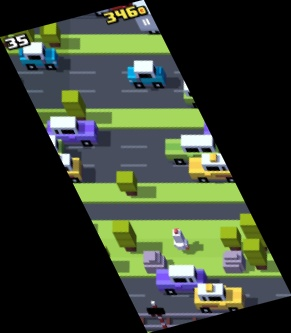car: (165, 135, 229, 166), (43, 115, 100, 148), (189, 152, 246, 182), (156, 265, 208, 297), (194, 283, 244, 314), (183, 77, 232, 107), (34, 153, 84, 182), (127, 60, 166, 90), (19, 41, 59, 70), (203, 116, 244, 143), (22, 135, 64, 159), (170, 228, 190, 252)
light off: (146, 298, 171, 333)
rail: (135, 310, 230, 332)
rock: (144, 251, 167, 275), (223, 251, 246, 272)
tree: (237, 213, 265, 247), (60, 90, 88, 123), (112, 220, 139, 252), (243, 239, 268, 270), (39, 15, 61, 49), (14, 17, 36, 45), (115, 170, 136, 197), (219, 227, 240, 252)
truck: (131, 1, 205, 35)
